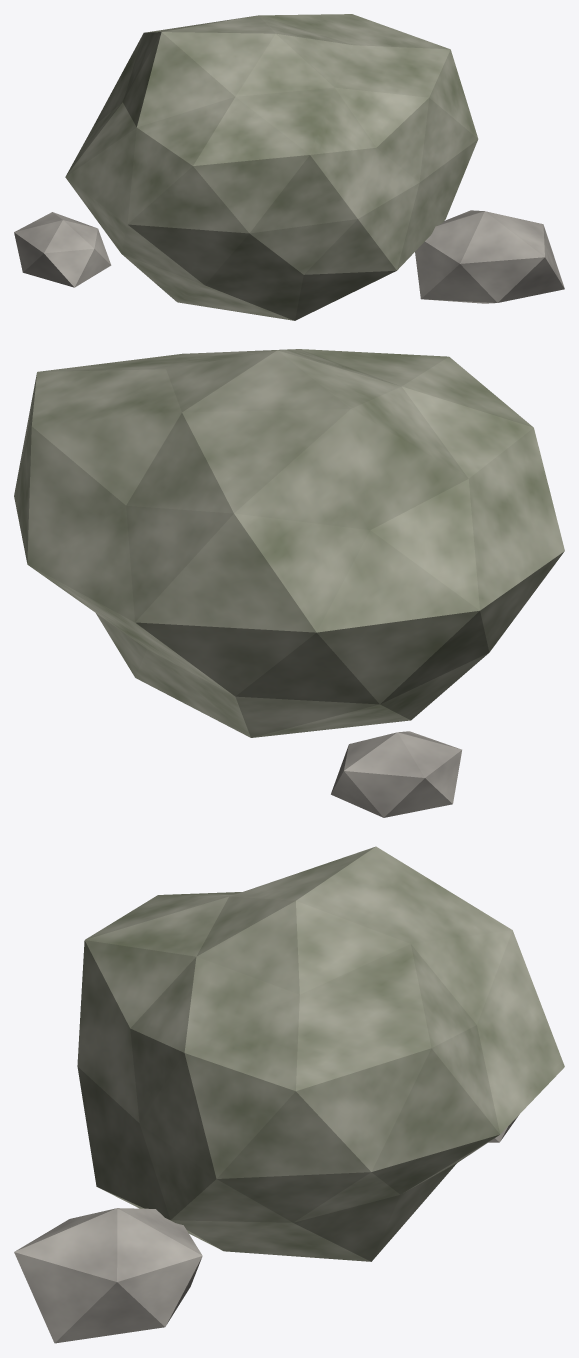
Rendered from boulder.glb.
3 views of the same model, one above another, from view 1: azimuth 30°, elevation 25°; view 2: azimuth 150°, elevation 25°; view 3: azimuth 270°, elevation 25° (orthographic). The views are drawn at different scales.
Parts seen in each view (by area): view 1: bo_main, bo_chip2; view 2: bo_main, bo_chip2; view 3: bo_main, bo_chip2.
Boxes of the visible parts, x1=… form: bo_main: x1=65, y1=14, x2=478, y2=320; bo_chip2: x1=14, y1=210, x2=564, y2=303; bo_main: x1=14, y1=349, x2=564, y2=737; bo_chip2: x1=331, y1=731, x2=461, y2=817; bo_main: x1=77, y1=846, x2=564, y2=1261; bo_chip2: x1=14, y1=1114, x2=519, y2=1343.
Size of the model in its own units: 0.9378 by 0.5855 by 0.864.
2 materials, 2 textured.
